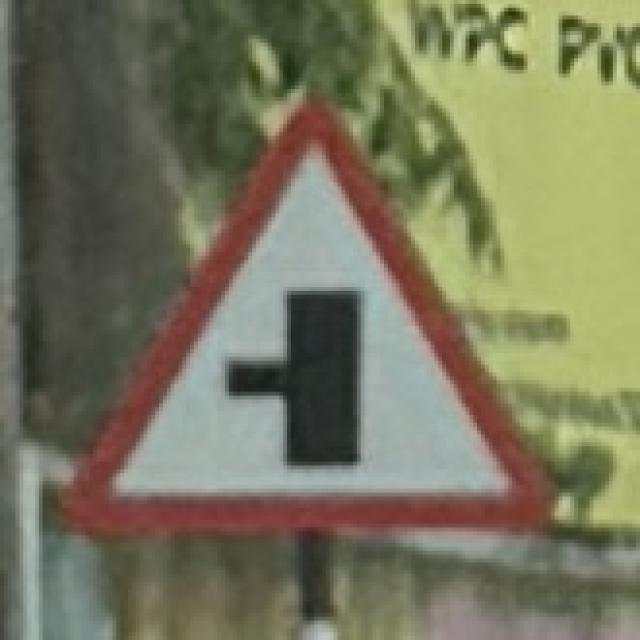SIDE_ROAD_LEFT: (41, 78, 568, 547)
